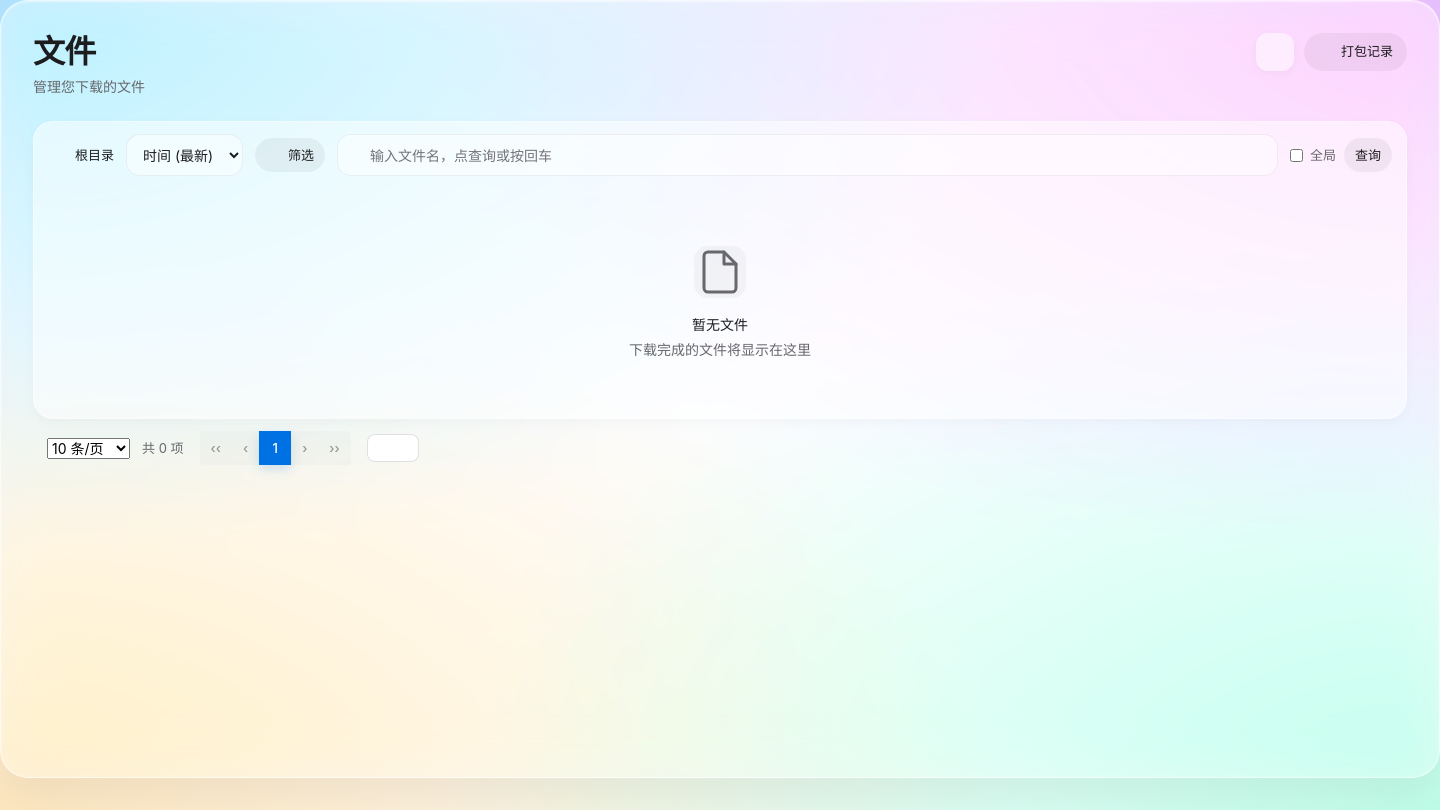
Test: FilesPage（V1 文件页） › 空列表渲染空状态且打包记录入口常显
Expected: the text "暂无文件" is shown, [692,314,748,335]
Click the button "打包记录".
click(1356, 52)  # box [1304,33,1407,71]
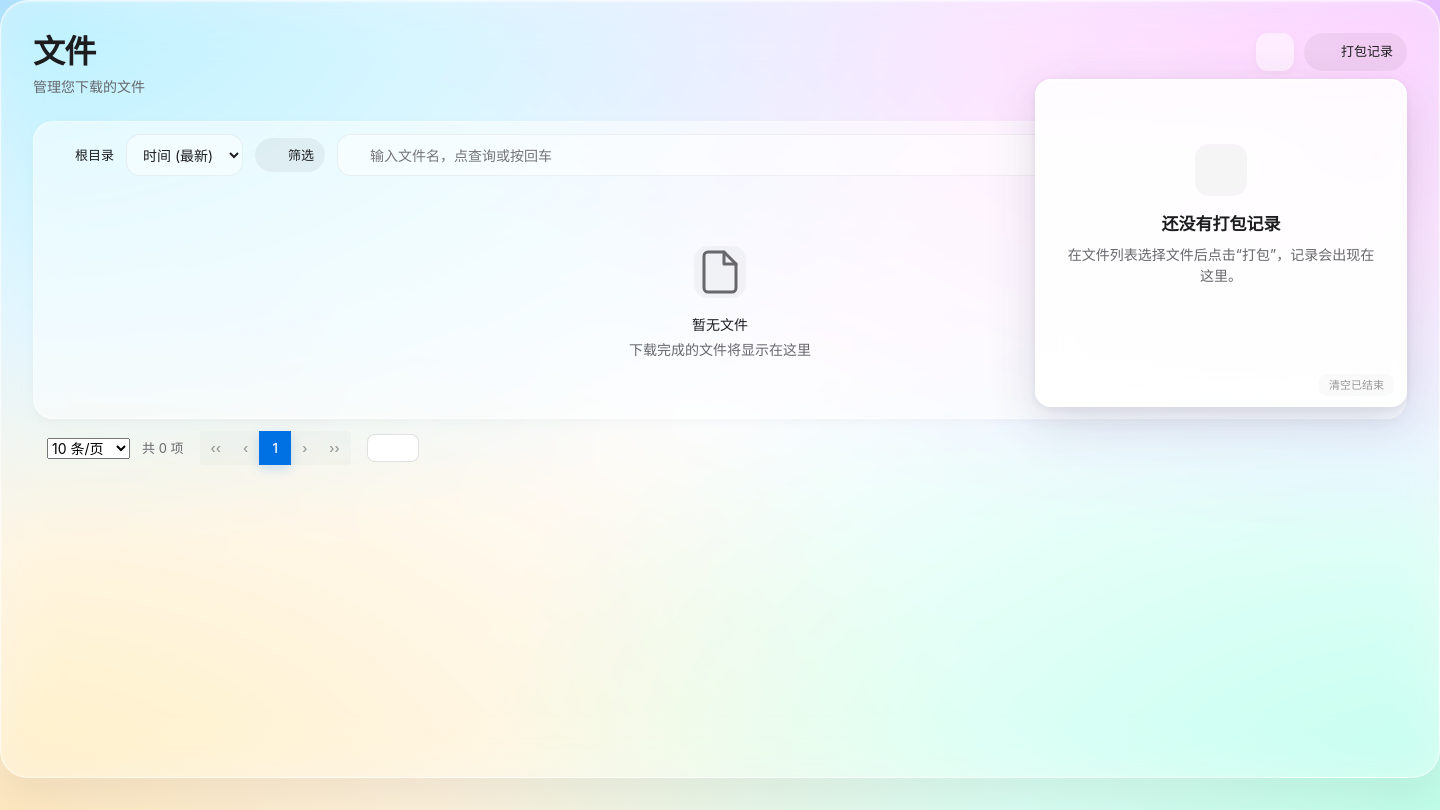
Now the dialog "打包记录" is shown, box [1035,79,1407,407]
Now the heading "还没有打包记录" is shown, box [1162,212,1280,238]
